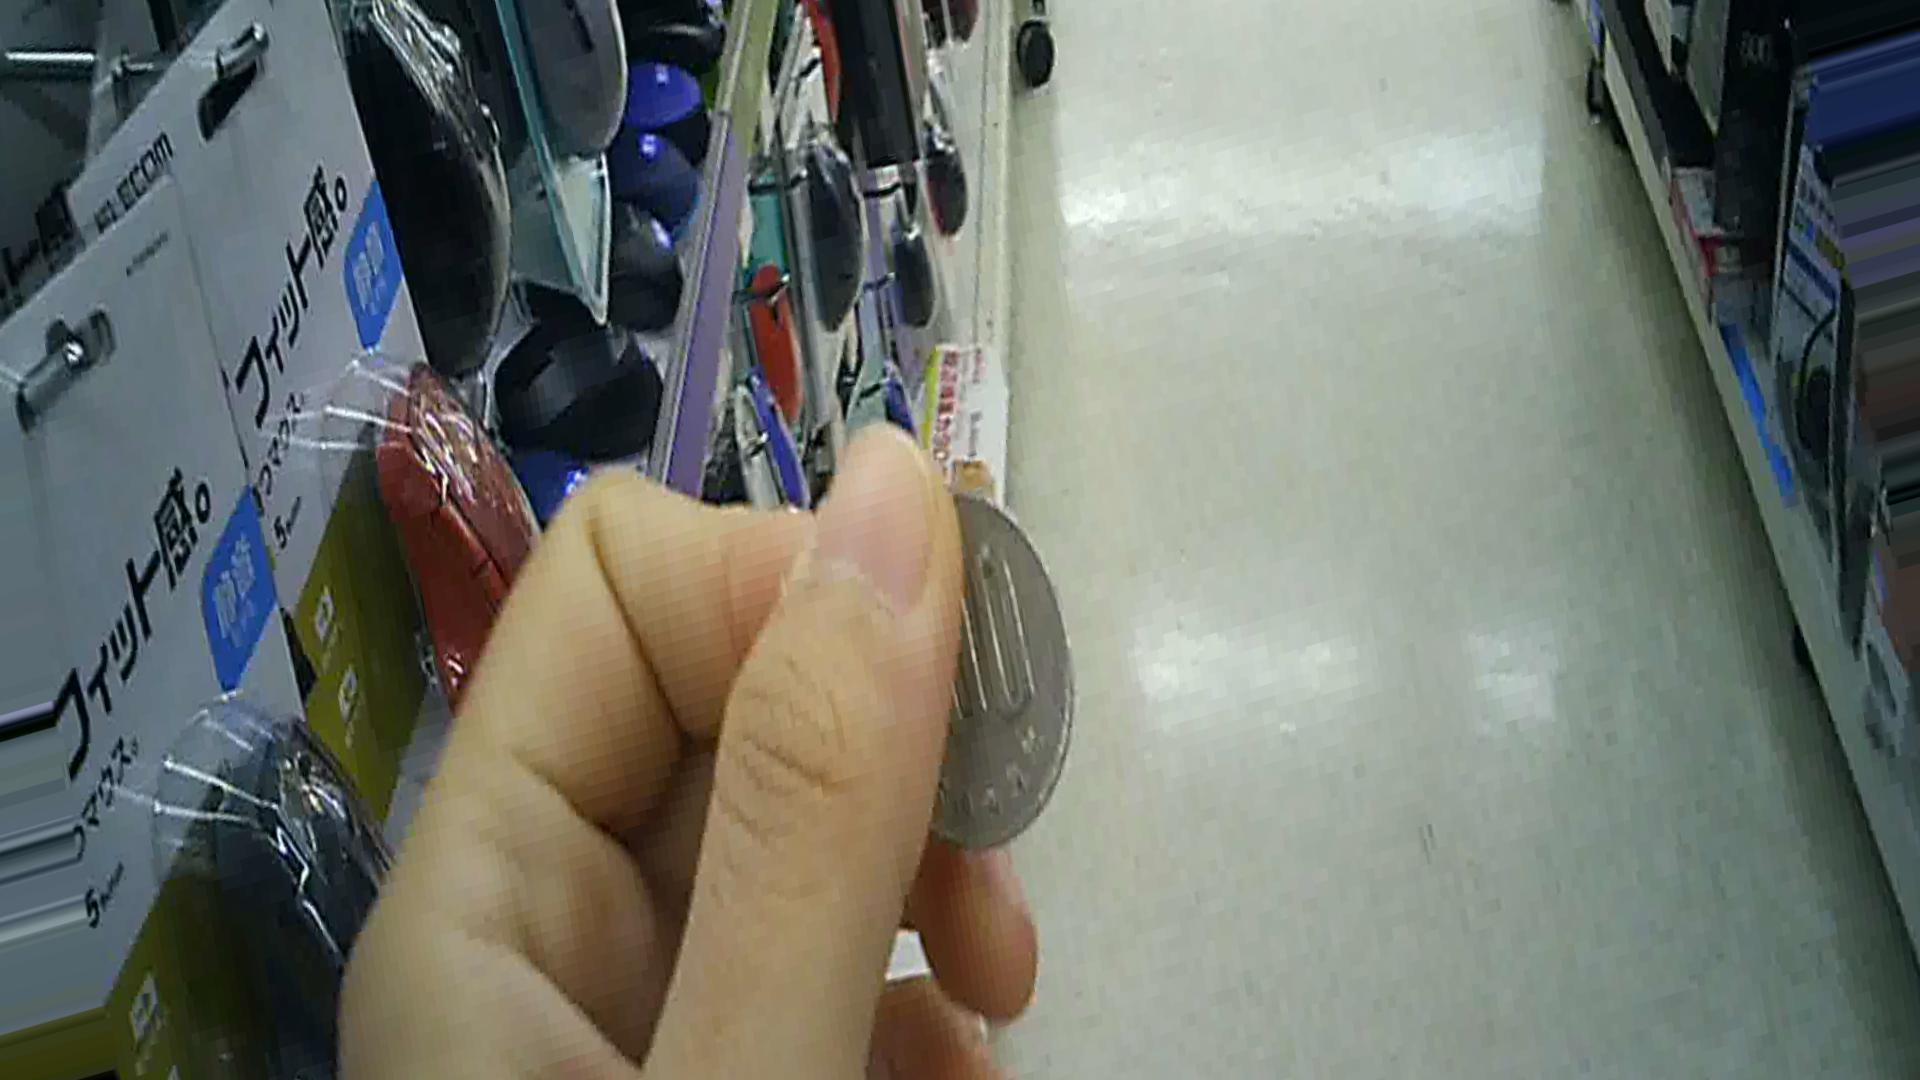100 Yen: (843, 480, 1091, 876)
